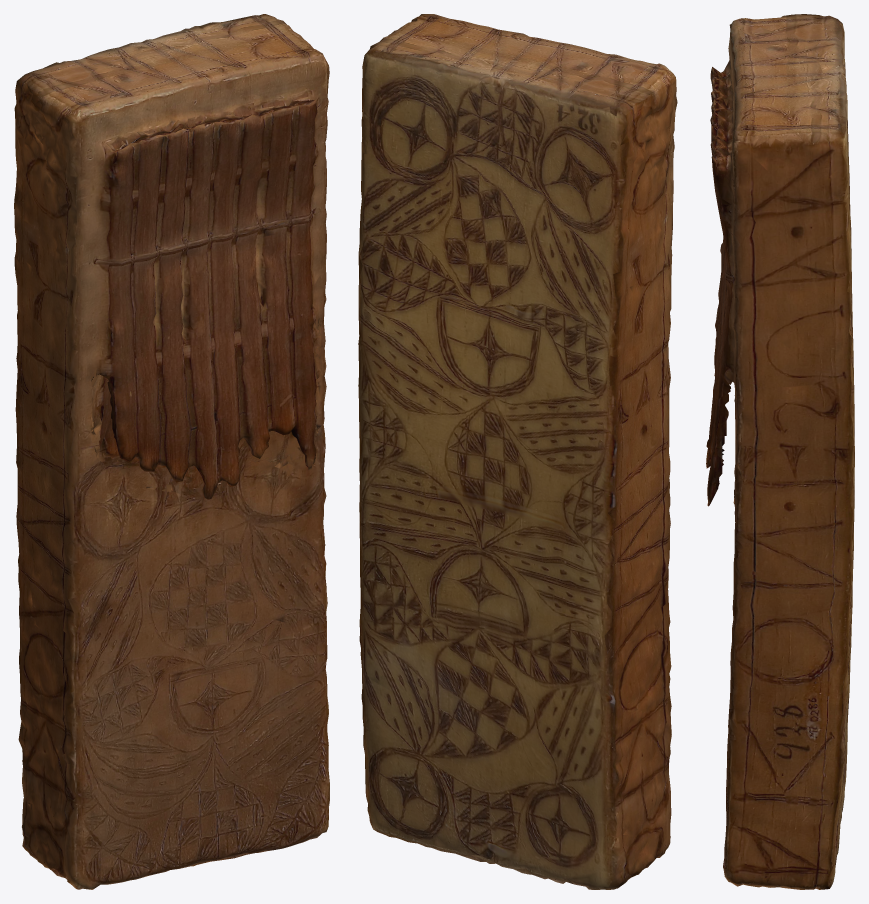
3 views of the same model, side by side, from view 1: azimuth 30°, elevation 25°; view 2: azimuth 150°, elevation 25°; view 3: azimuth 270°, elevation 25° (orthographic). The views are drawn at different scales.
Parts seen in each view (by area): view 1: ME0286; view 2: ME0286; view 3: ME0286.
Part boxes in pixels (x1,y1,x2,y2): ME0286: [14, 14, 329, 889]; ME0286: [358, 14, 677, 889]; ME0286: [706, 14, 854, 889].
Size of the model in its own units: 0.6517 by 1.84 by 0.3244.
Materials: 1 (1 with a texture image).
